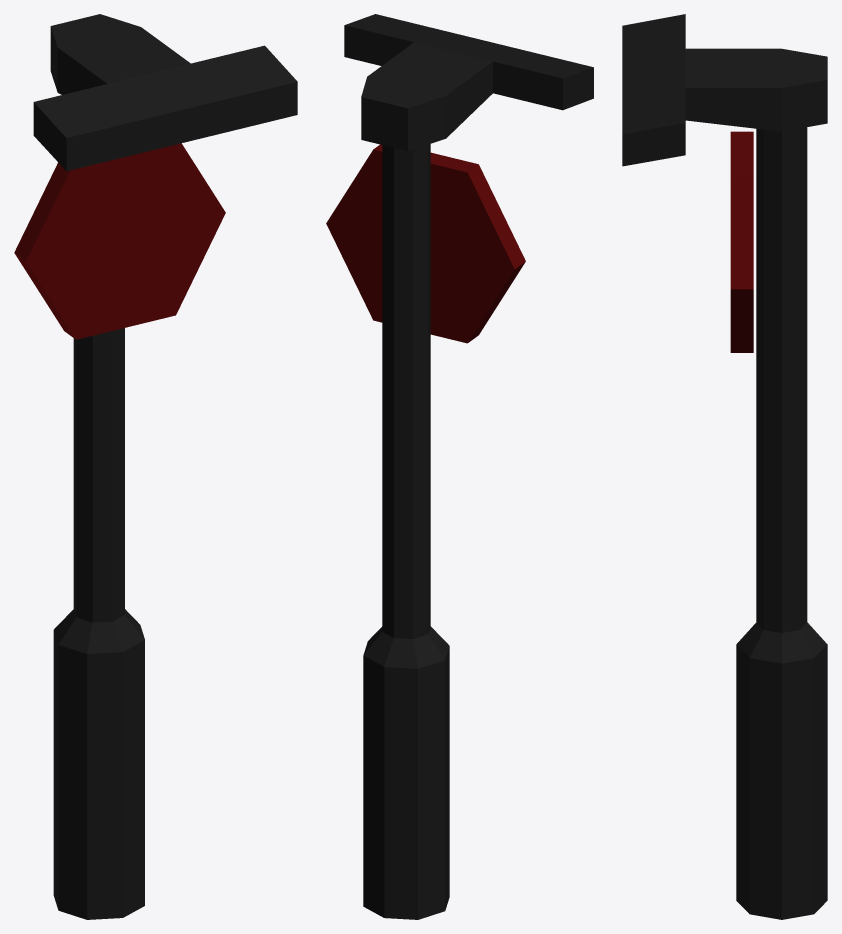
File: Stop Sign.obj
3 renders of one model, left to right at view 1: azimuth 30°, elevation 25°; view 2: azimuth 150°, elevation 25°; view 3: azimuth 270°, elevation 25°, orthographic. The views are drawn at different scales.
Parts seen in each view (by area): view 1: Pole_Cylinder, Stop_Cylinder.004, Light.001_Cube.001; view 2: Pole_Cylinder, Light.001_Cube.001, Stop_Cylinder.004; view 3: Pole_Cylinder, Light.001_Cube.001, Stop_Cylinder.004.
Boxes of the visible parts, x1,y1,x2,y2 form: Pole_Cylinder: (53, 328, 144, 919); Stop_Cylinder.004: (14, 143, 225, 339); Light.001_Cube.001: (33, 14, 297, 171); Pole_Cylinder: (363, 144, 449, 919); Light.001_Cube.001: (344, 14, 593, 151); Stop_Cylinder.004: (326, 144, 525, 343); Pole_Cylinder: (736, 127, 827, 919); Light.001_Cube.001: (622, 14, 827, 166); Stop_Cylinder.004: (730, 131, 753, 352).
Bounding box in the file's own units: 3.25 × 11.61 × 2.59.
